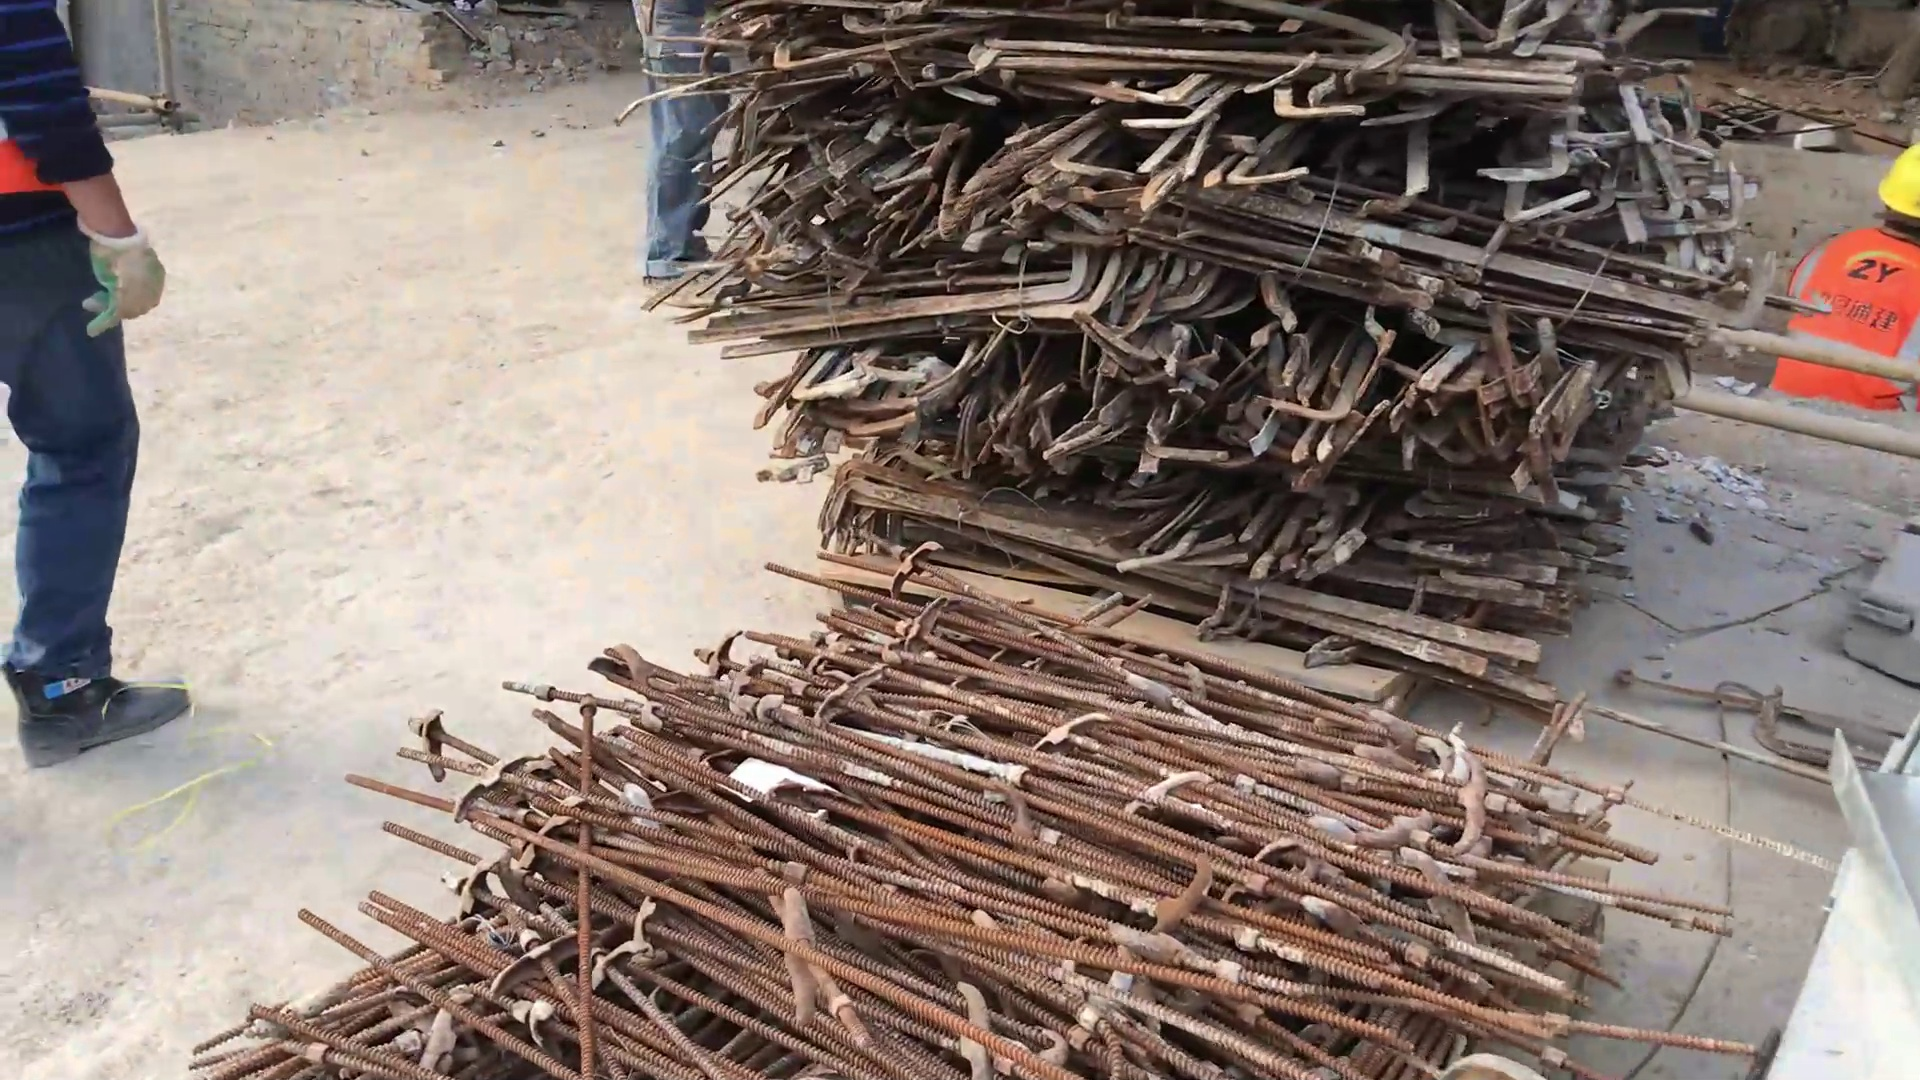helmet: (1865, 137, 1920, 231)
person: (3, 1, 210, 771), (1753, 137, 1920, 421)
vest: (1765, 226, 1920, 409)
